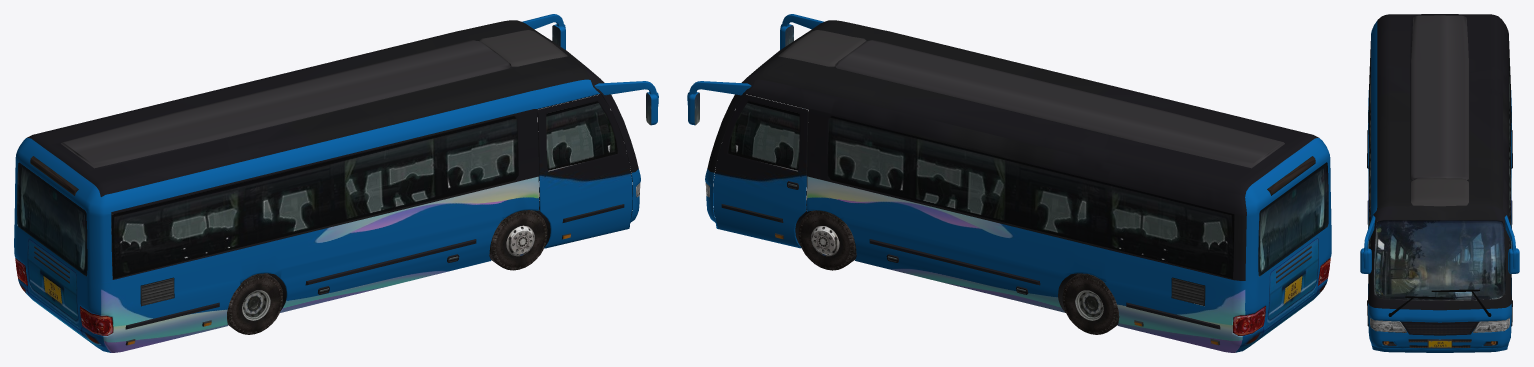
The model's file is zhongba.glb.
The picture shows the model from 3 angles, left to right: view 1: azimuth 30°, elevation 25°; view 2: azimuth 150°, elevation 25°; view 3: azimuth 270°, elevation 25°; orthographic projection. The views are drawn at different scales.
Parts seen in each view (by area): view 1: polySurface378; view 2: polySurface378; view 3: polySurface378.
Boxes of the visible parts, bbox=[...] form: polySurface378: bbox=[14, 14, 658, 352]; polySurface378: bbox=[687, 14, 1331, 352]; polySurface378: bbox=[1360, 14, 1519, 352].
Size of the model in its own units: 9.05 by 2.85 by 2.79.
1 material, 1 textured.
